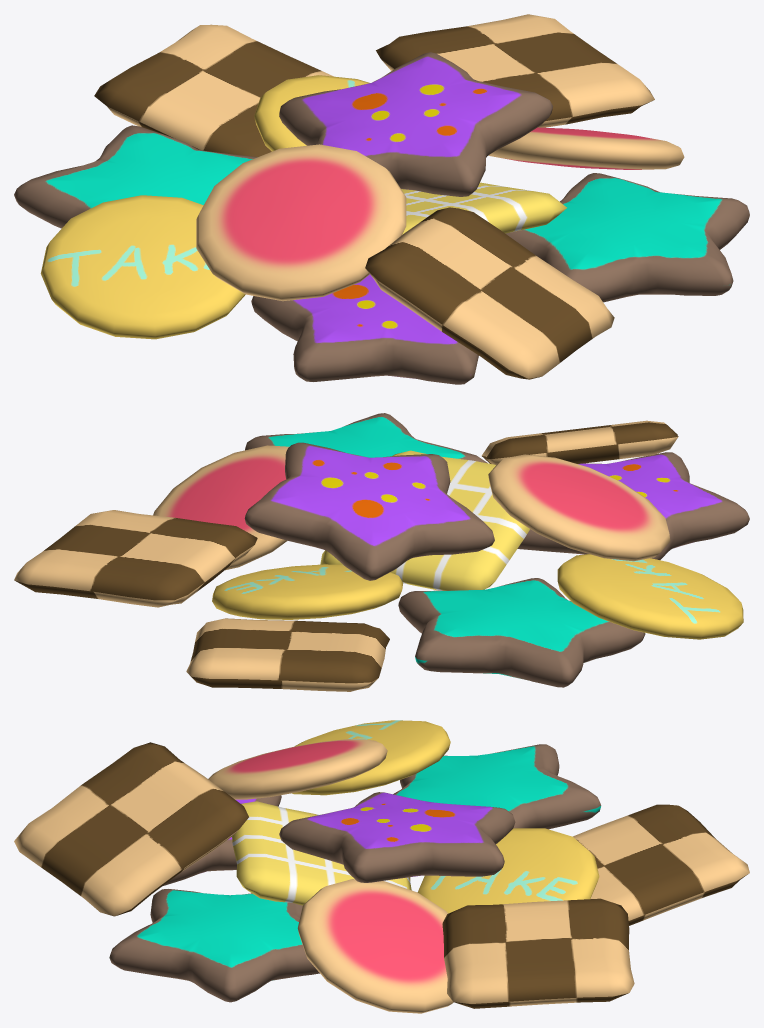
Rendered from BgMd_Obstacle_Cookies_01.fbx.
3 renders of one model, top to bottom at view 1: azimuth 30°, elevation 25°; view 2: azimuth 150°, elevation 25°; view 3: azimuth 270°, elevation 25°, orthographic. The views are drawn at different scales.
Parts seen in each view (by area): view 1: BgMd_Obstacle_Cookies_01; view 2: BgMd_Obstacle_Cookies_01; view 3: BgMd_Obstacle_Cookies_01.
Boxes of the visible parts, x1=… form: BgMd_Obstacle_Cookies_01: x1=14, y1=14, x2=749, y2=384; BgMd_Obstacle_Cookies_01: x1=14, y1=413, x2=749, y2=691; BgMd_Obstacle_Cookies_01: x1=14, y1=720, x2=749, y2=1013.
Size of the model in its own units: 18.72 by 3.49 by 20.97.
